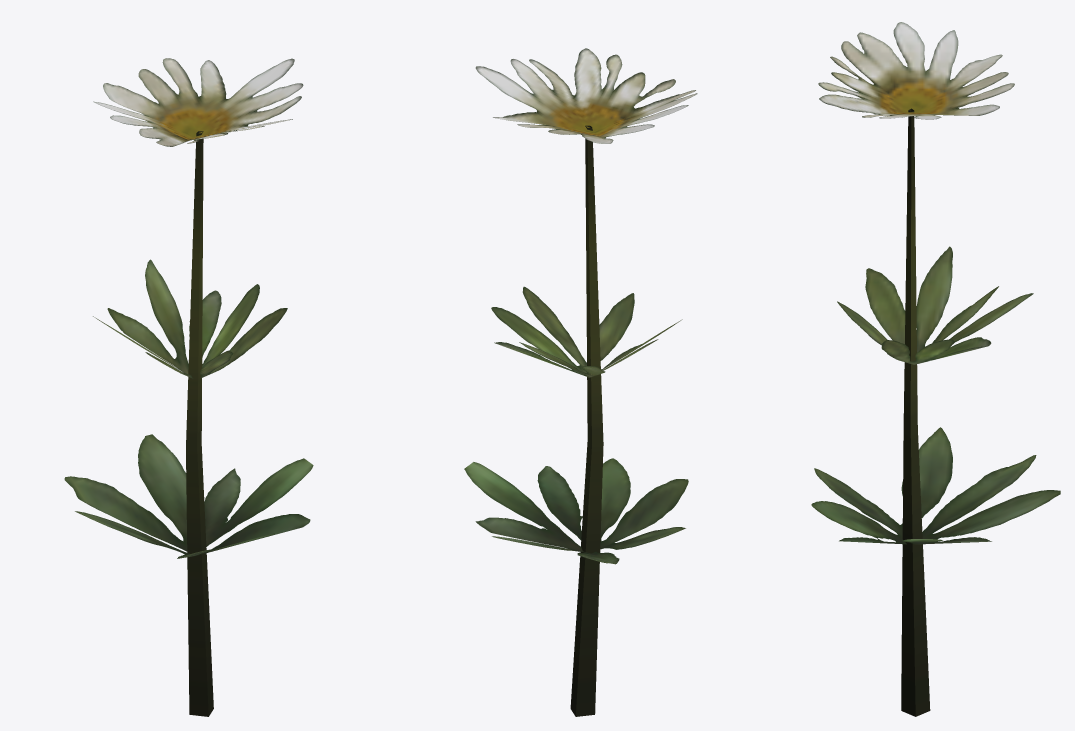
Rendered from flower_s04.fbx.
3 views of the same model, side by side, from view 1: azimuth 30°, elevation 25°; view 2: azimuth 150°, elevation 25°; view 3: azimuth 270°, elevation 25° (orthographic). The views are drawn at different scales.
Visible parts, largest first — view 1: flower_s04; view 2: flower_s04; view 3: flower_s04.
Part boxes in pixels (x1,y1,x2,y2): flower_s04: (64, 58, 313, 716); flower_s04: (464, 48, 697, 716); flower_s04: (811, 22, 1060, 716).
Bounding box in the file's own units: 11.59 × 30.49 × 11.59.
